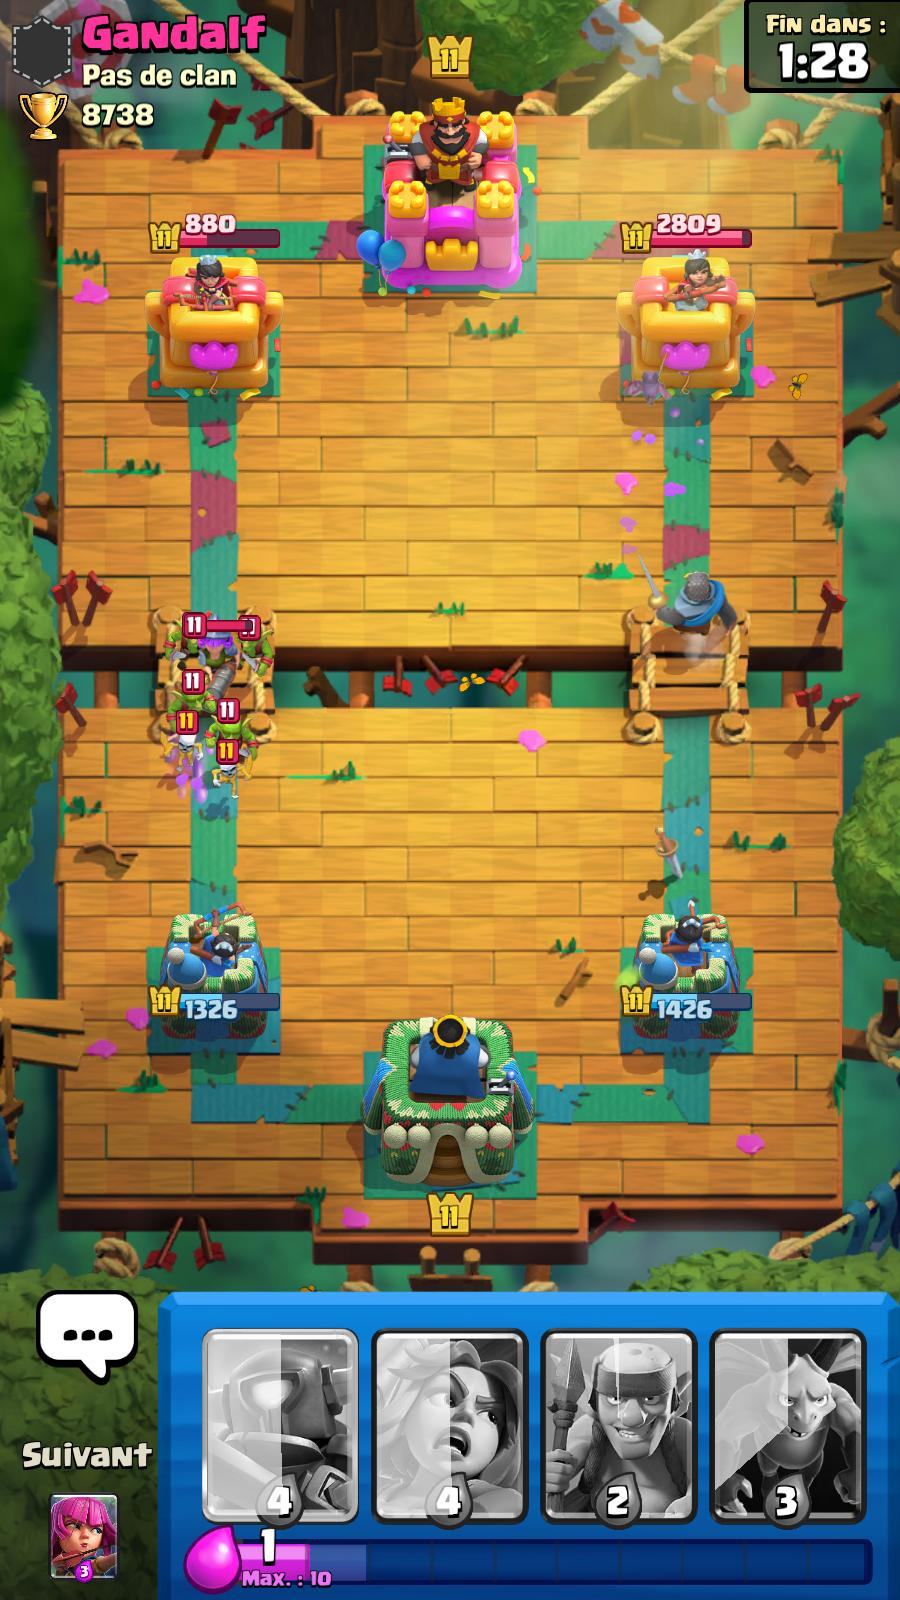chevalier: (626, 556, 773, 645)
gobelin: (201, 703, 267, 759), (234, 616, 287, 680), (162, 675, 215, 732), (165, 611, 209, 671)
mousquetaire: (190, 609, 246, 709)
squelette: (155, 727, 205, 776), (214, 752, 253, 808)
